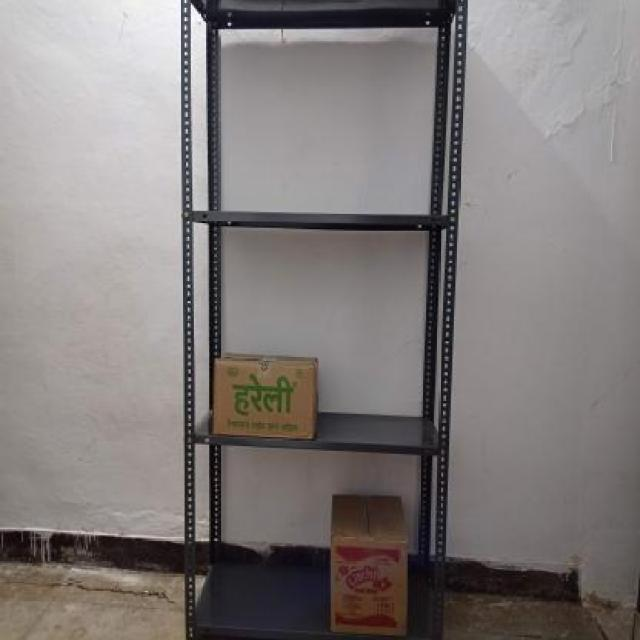box: (214, 360, 318, 442), (333, 535, 410, 640)
